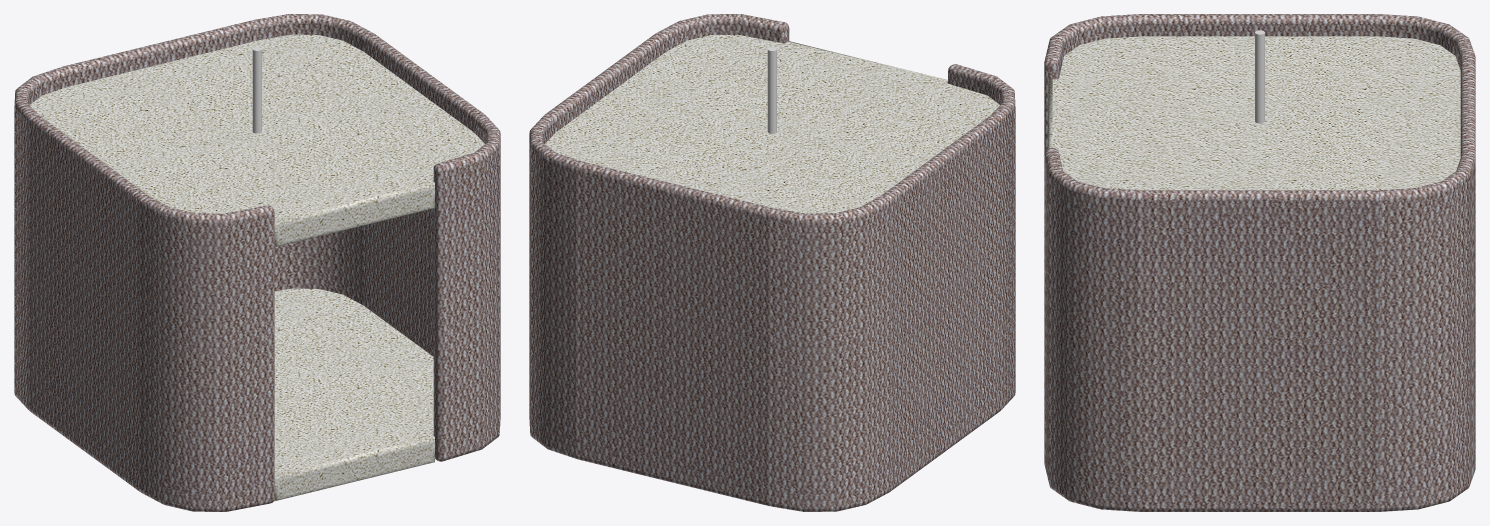
The picture shows the model from 3 angles, left to right: view 1: azimuth 30°, elevation 25°; view 2: azimuth 150°, elevation 25°; view 3: azimuth 270°, elevation 25°; orthographic projection. The views are drawn at different scales.
Visible parts, largest first — view 1: Detail2, Detail3, Detail1, con1out; view 2: Detail2, Detail3, con1out; view 3: Detail2, Detail3, con1out.
Part boxes in pixels (<box>): Detail2: <box>14,14,500,511</box>; Detail3: <box>30,34,484,246</box>; Detail1: <box>274,288,434,501</box>; con1out: <box>252,47,261,133</box>; Detail2: <box>529,14,1015,511</box>; Detail3: <box>545,34,999,213</box>; con1out: <box>767,47,776,133</box>; Detail2: <box>1044,14,1475,511</box>; Detail3: <box>1047,36,1460,190</box>; con1out: <box>1255,30,1264,123</box>.
Size of the model in its own units: 0.4299 by 0.428 by 0.4293.
2 materials, 2 textured.
